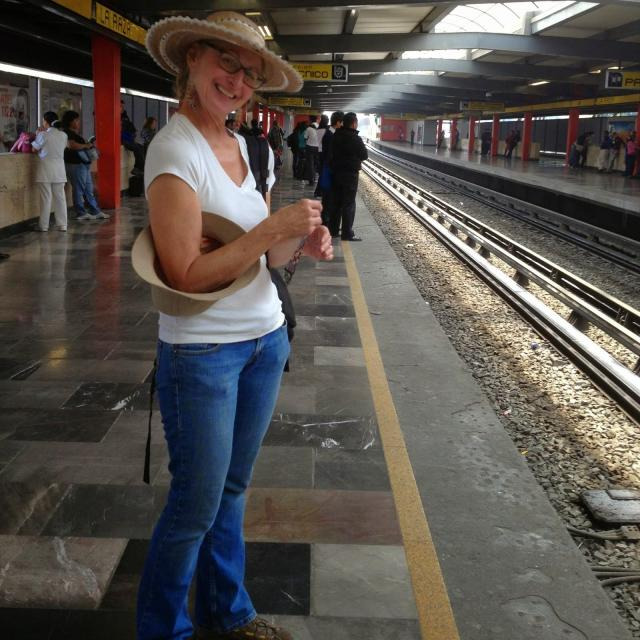body: (116, 1, 339, 640), (132, 110, 328, 183), (327, 111, 369, 242), (61, 110, 110, 220), (31, 108, 70, 238), (566, 126, 638, 179), (319, 110, 346, 232), (120, 97, 146, 175), (303, 114, 321, 187), (464, 128, 496, 158), (606, 131, 626, 174), (294, 121, 308, 179), (289, 122, 303, 179), (140, 116, 156, 160), (315, 114, 331, 156), (596, 130, 611, 170), (626, 134, 638, 178), (505, 129, 522, 159), (267, 120, 282, 152), (501, 129, 514, 159), (450, 128, 460, 152), (397, 128, 403, 144), (440, 130, 445, 146), (410, 128, 414, 146)
